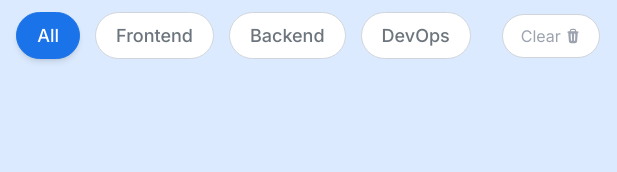
Scenario: Tabs Component (Desktop View) › shows a warning and prevents selection when max category limit is reached
The width and height of the screenshot is (617, 172).
Click the button "Frontend" at (155, 36), box [95,12,214,59]
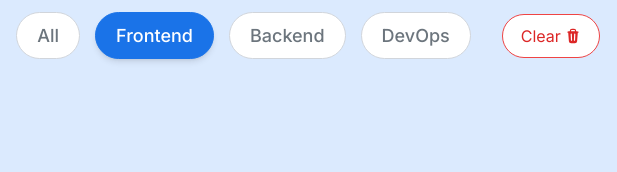
Click the button "Backend" at (288, 36), box [229,12,346,59]
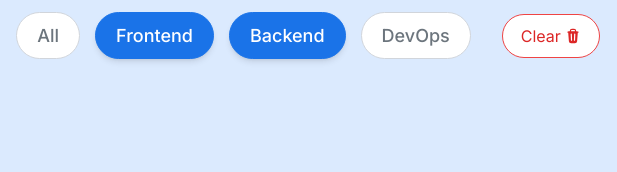
Click the button "DevOps" at (416, 36), box [361,12,471,59]
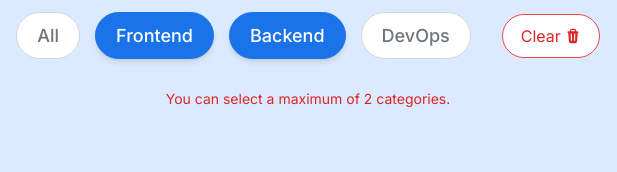
Check: the text "You can select a maximum of 2 categories." is shown, box [166,90,450,107]
